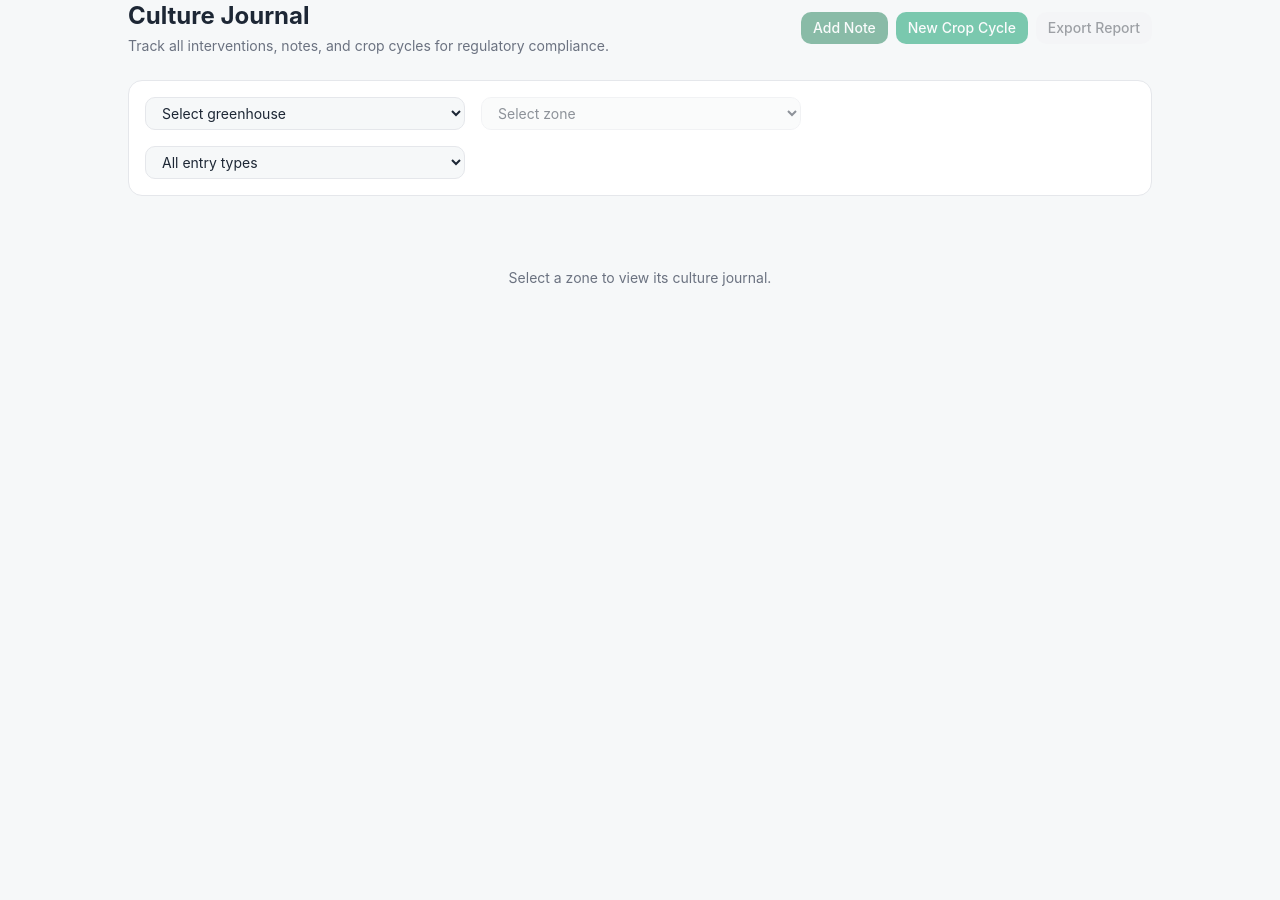
Test case: CultureJournal page › opens the New Crop Cycle modal when button is clicked
Select "Greenhouse Alpha" in the 1st dropdown. click: {"x": 305, "y": 114}
box: [145,97,465,130]
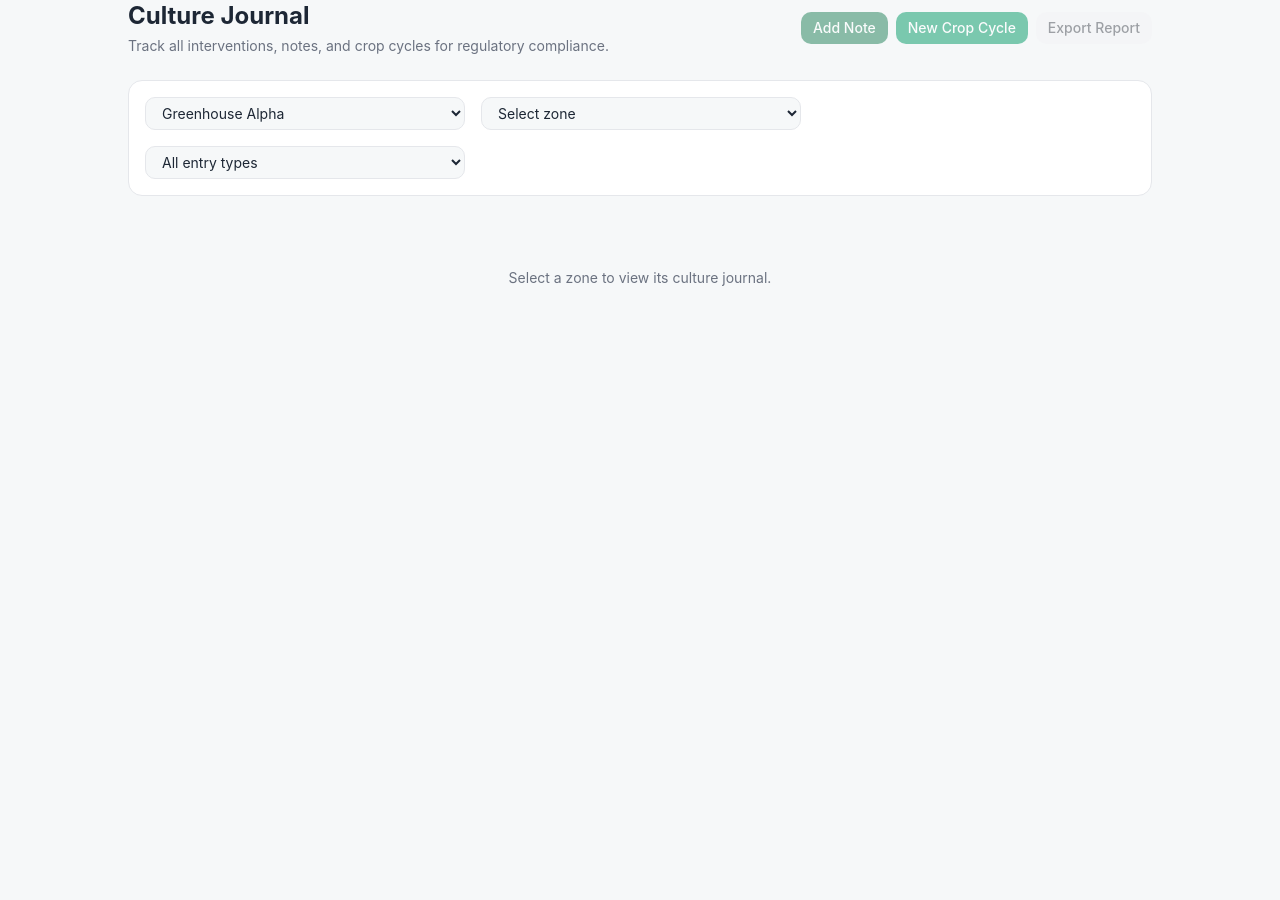
Select "Zone Tomato" in the 2nd dropdown. click: {"x": 641, "y": 114}
box: [481,97,801,130]
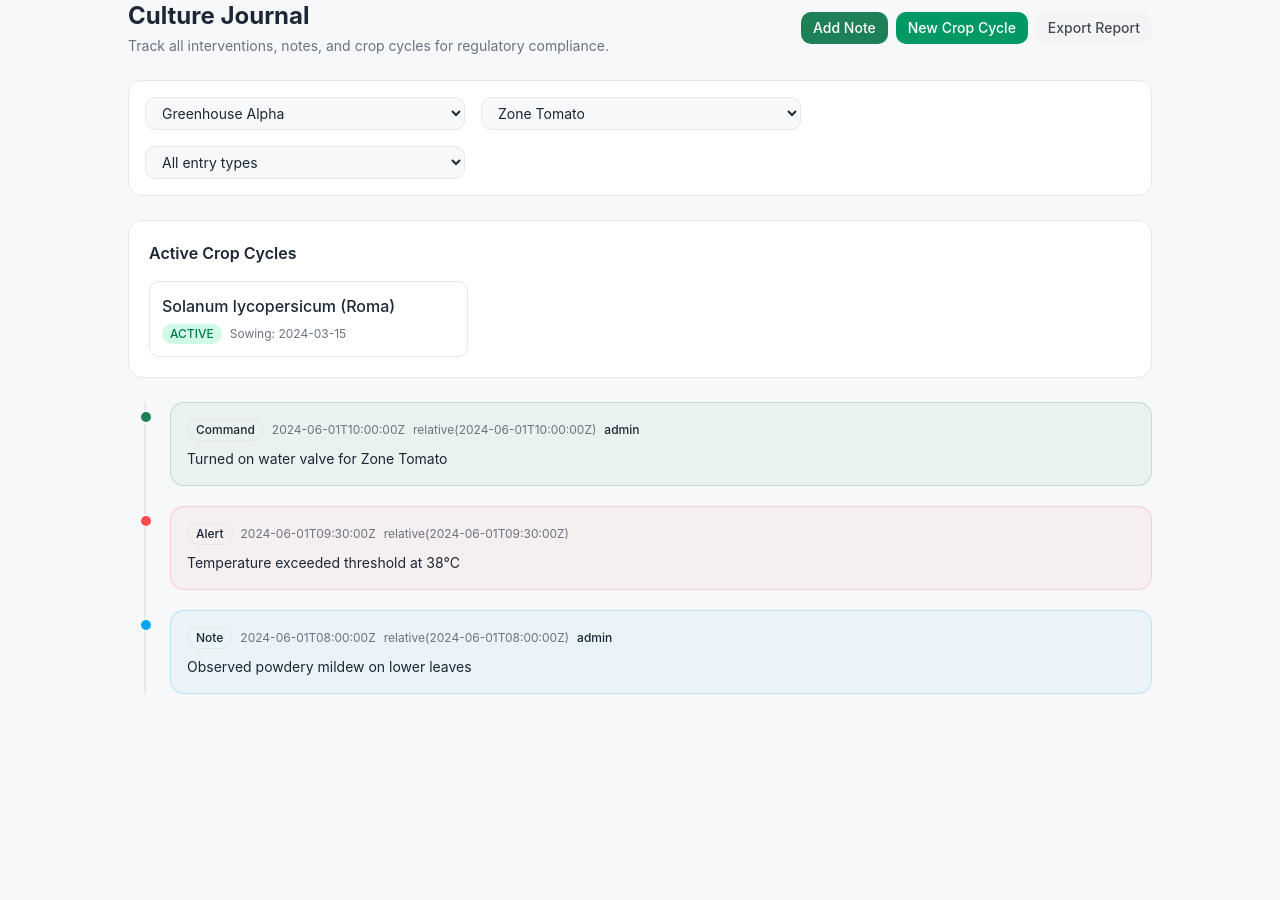
Expected: the text "Turned on water valve for Zone Tomato" is shown, [187,450,448,467]
# Click New Crop Cycle button
Click the button "New Crop Cycle". click: {"x": 962, "y": 28}
box: [896,12,1028,44]
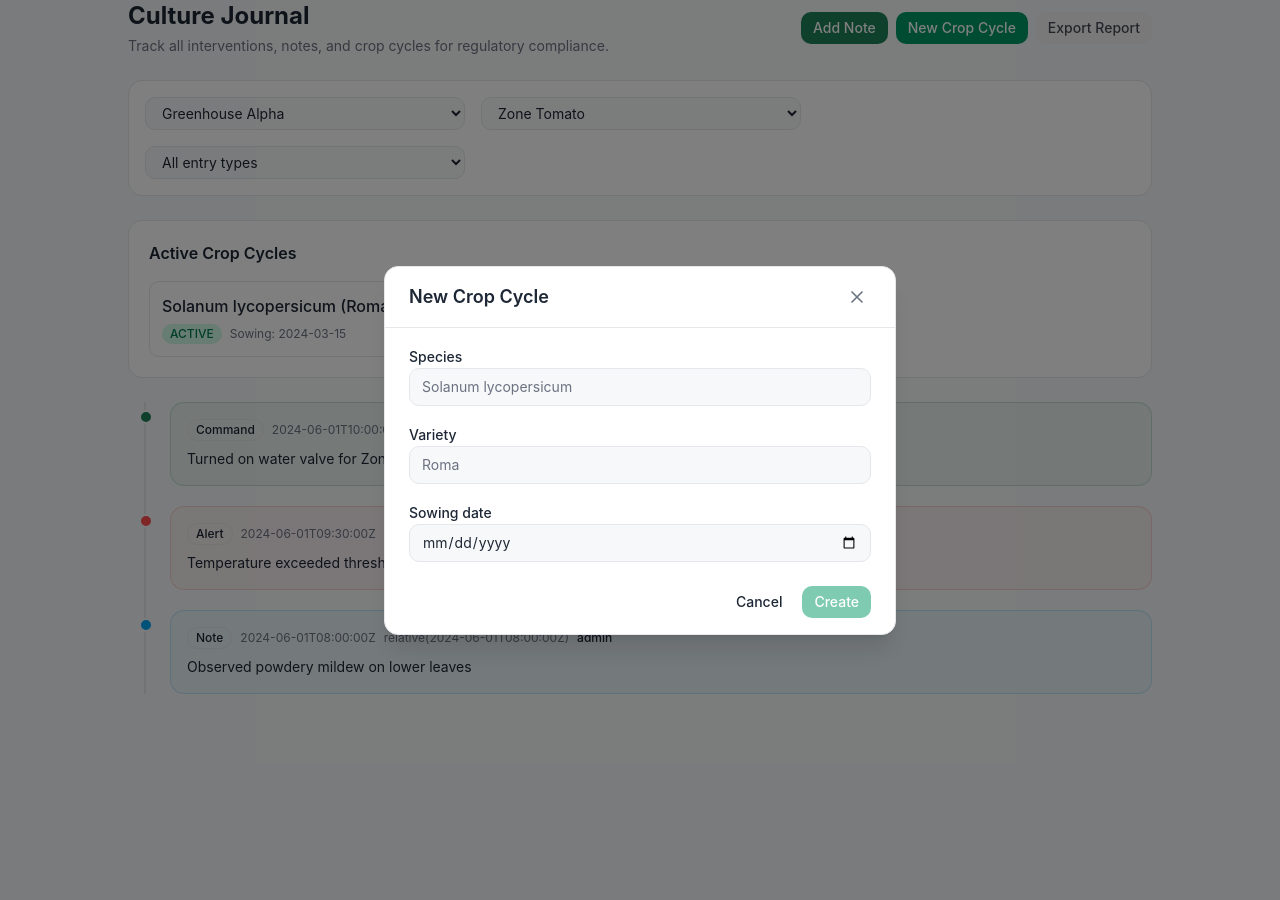
Expected: the text "Species" is shown, [409,348,462,364]
Expected: the text "Variety" is shown, [409,426,456,442]
Expected: the text "Sowing date" is shown, [409,504,492,520]
